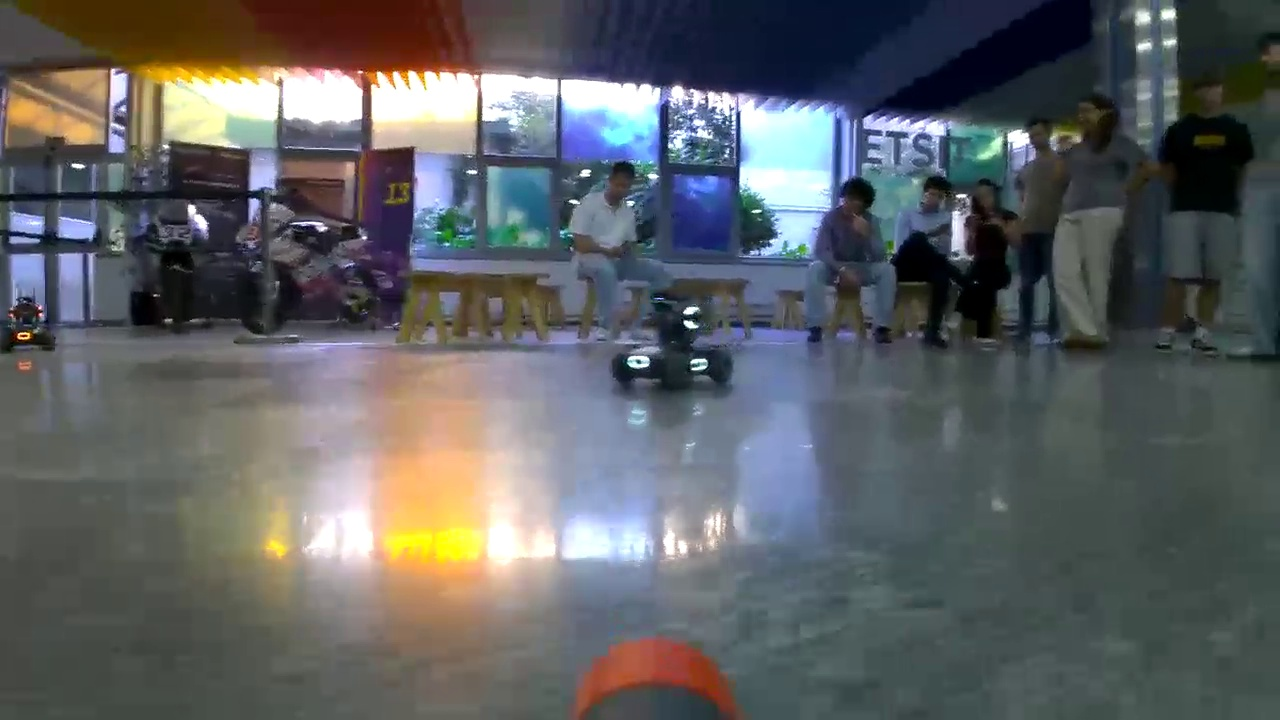robot: (612, 295, 732, 390), (1, 287, 55, 350)
